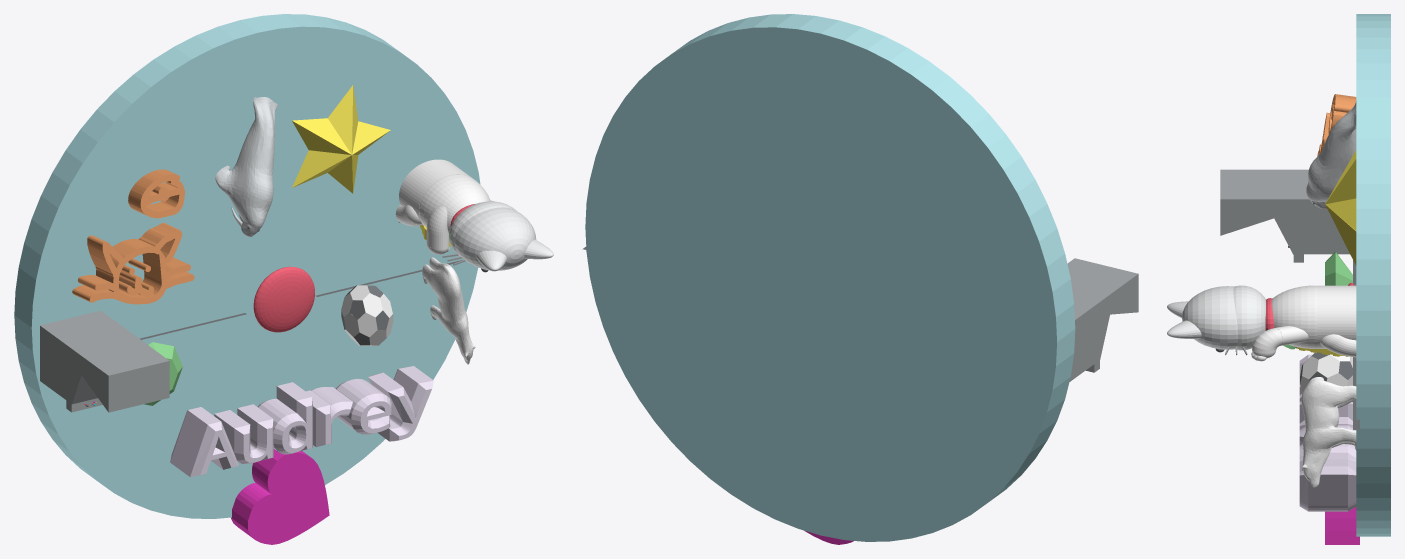
File: AudreyNameTag.gltf
3 renders of one model, left to right at view 1: azimuth 30°, elevation 25°; view 2: azimuth 150°, elevation 25°; view 3: azimuth 270°, elevation 25°, orthographic. The views are drawn at different scales.
Parts seen in each view (by area): view 1: group_0_7720667, group_0_13877221, group_0_6383466, group_0_16448250, group_0_14900002, group_0_14093196, group_0_14541540, group_0_16768282, group_0_12568524, group_0_15277357, group_0_2829873, group_0_4634441; view 2: group_0_7720667, group_0_6383466; view 3: group_0_7720667, group_0_16448250, group_0_6383466, group_0_14541540, group_0_13877221, group_0_12568524, group_0_16768282, group_0_14093196, group_0_2829873, group_0_14900002, group_0_4634441.
Boxes of the visible parts, left/top/right/bottom form: group_0_7720667: left=14, top=14, right=480, bottom=518; group_0_13877221: left=170, top=366, right=433, bottom=477; group_0_6383466: left=40, top=254, right=465, bottom=412; group_0_16448250: left=341, top=159, right=493, bottom=364; group_0_14900002: left=72, top=169, right=194, bottom=304; group_0_14093196: left=93, top=401, right=329, bottom=544; group_0_14541540: left=449, top=201, right=553, bottom=271; group_0_16768282: left=292, top=85, right=451, bottom=246; group_0_12568524: left=215, top=97, right=277, bottom=236; group_0_15277357: left=84, top=204, right=474, bottom=405; group_0_2829873: left=86, top=226, right=488, bottom=406; group_0_4634441: left=95, top=232, right=449, bottom=405; group_0_7720667: left=585, top=14, right=1075, bottom=541; group_0_6383466: left=1067, top=258, right=1138, bottom=381; group_0_7720667: left=1356, top=14, right=1390, bottom=536; group_0_16448250: left=1251, top=285, right=1356, bottom=487; group_0_6383466: left=1220, top=169, right=1349, bottom=355; group_0_14541540: left=1167, top=285, right=1265, bottom=350; group_0_13877221: left=1299, top=354, right=1356, bottom=511; group_0_12568524: left=1306, top=101, right=1356, bottom=208; group_0_16768282: left=1295, top=150, right=1356, bottom=356; group_0_14093196: left=1325, top=507, right=1359, bottom=544; group_0_2829873: left=1215, top=203, right=1359, bottom=478; group_0_14900002: left=1317, top=94, right=1356, bottom=208; group_0_4634441: left=1283, top=251, right=1352, bottom=349.
Size of the model in its own units: 154 by 157 by 64.19.
